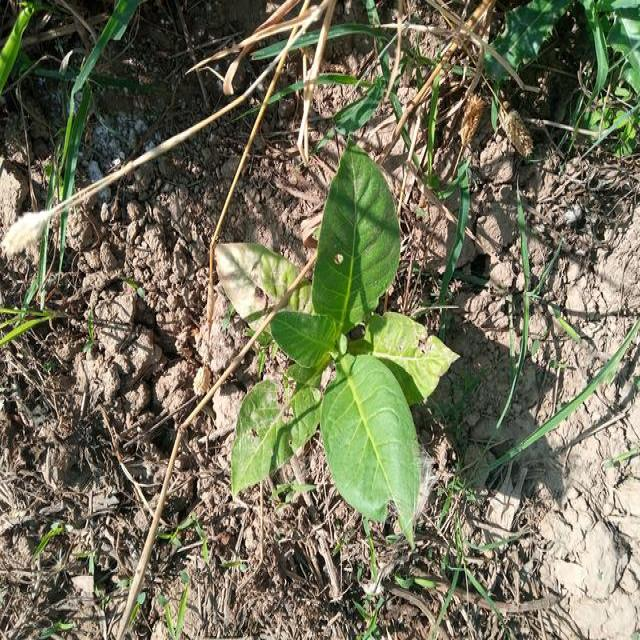crop: (235, 159, 458, 516)
